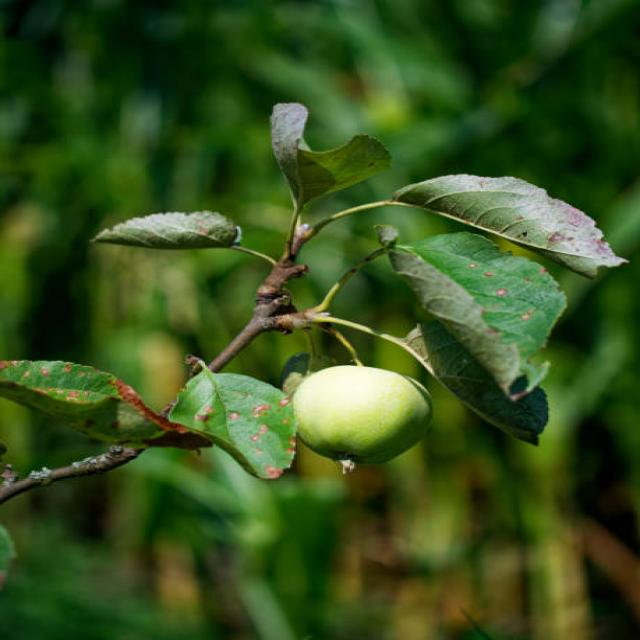Unripe: (293, 365, 436, 476)
